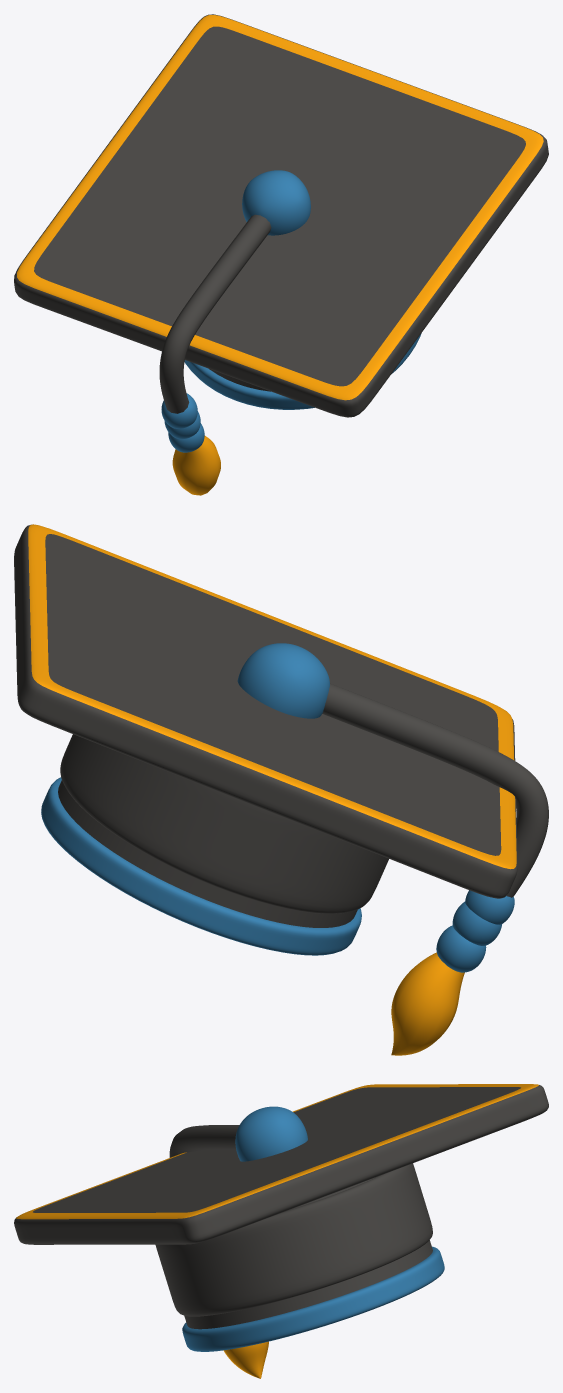
Rendered from Graduation Cap .glb.
The picture shows the model from 3 angles, top to bottom: view 1: azimuth 30°, elevation 25°; view 2: azimuth 150°, elevation 25°; view 3: azimuth 270°, elevation 25°; orthographic projection. The views are drawn at different scales.
Visible parts, largest first — view 1: Plane, NurbsPath, Cube, Circle.002, NurbsPath.001, Cube.001; view 2: Plane, Circle.001, Circle.002, NurbsPath, Circle, Cube, NurbsPath.001, Cube.003, Cube.002, Cube.001; view 3: Plane, Circle.001, Circle.002, Circle, Cube, NurbsPath, NurbsPath.001.
Boxes of the visible parts, x1,y1,x2,y2 form: Plane: [14, 14, 548, 417]; NurbsPath: [159, 214, 271, 413]; Cube: [242, 170, 310, 235]; Circle.002: [184, 333, 421, 409]; NurbsPath.001: [172, 435, 220, 495]; Cube.001: [161, 393, 197, 428]; Plane: [14, 524, 517, 898]; Circle.001: [60, 734, 388, 913]; Circle.002: [41, 777, 361, 955]; NurbsPath: [322, 683, 548, 897]; Circle: [58, 780, 357, 927]; Cube: [237, 643, 329, 718]; NurbsPath.001: [391, 952, 464, 1055]; Cube.003: [436, 925, 486, 972]; Cube.002: [452, 901, 501, 945]; Cube.001: [465, 890, 514, 924]; Plane: [14, 1084, 548, 1244]; Circle.001: [155, 1163, 432, 1316]; Circle.002: [182, 1246, 444, 1351]; Circle: [184, 1177, 432, 1329]; Cube: [235, 1106, 307, 1161]; NurbsPath: [169, 1125, 239, 1157]; NurbsPath.001: [223, 1341, 268, 1378].
Size of the model in its own units: 2.4 by 1.75 by 2.33.
